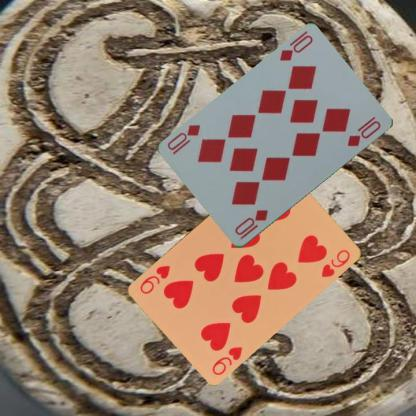10d: (232, 207, 269, 241), (277, 32, 314, 63)
9h: (209, 343, 244, 376)
